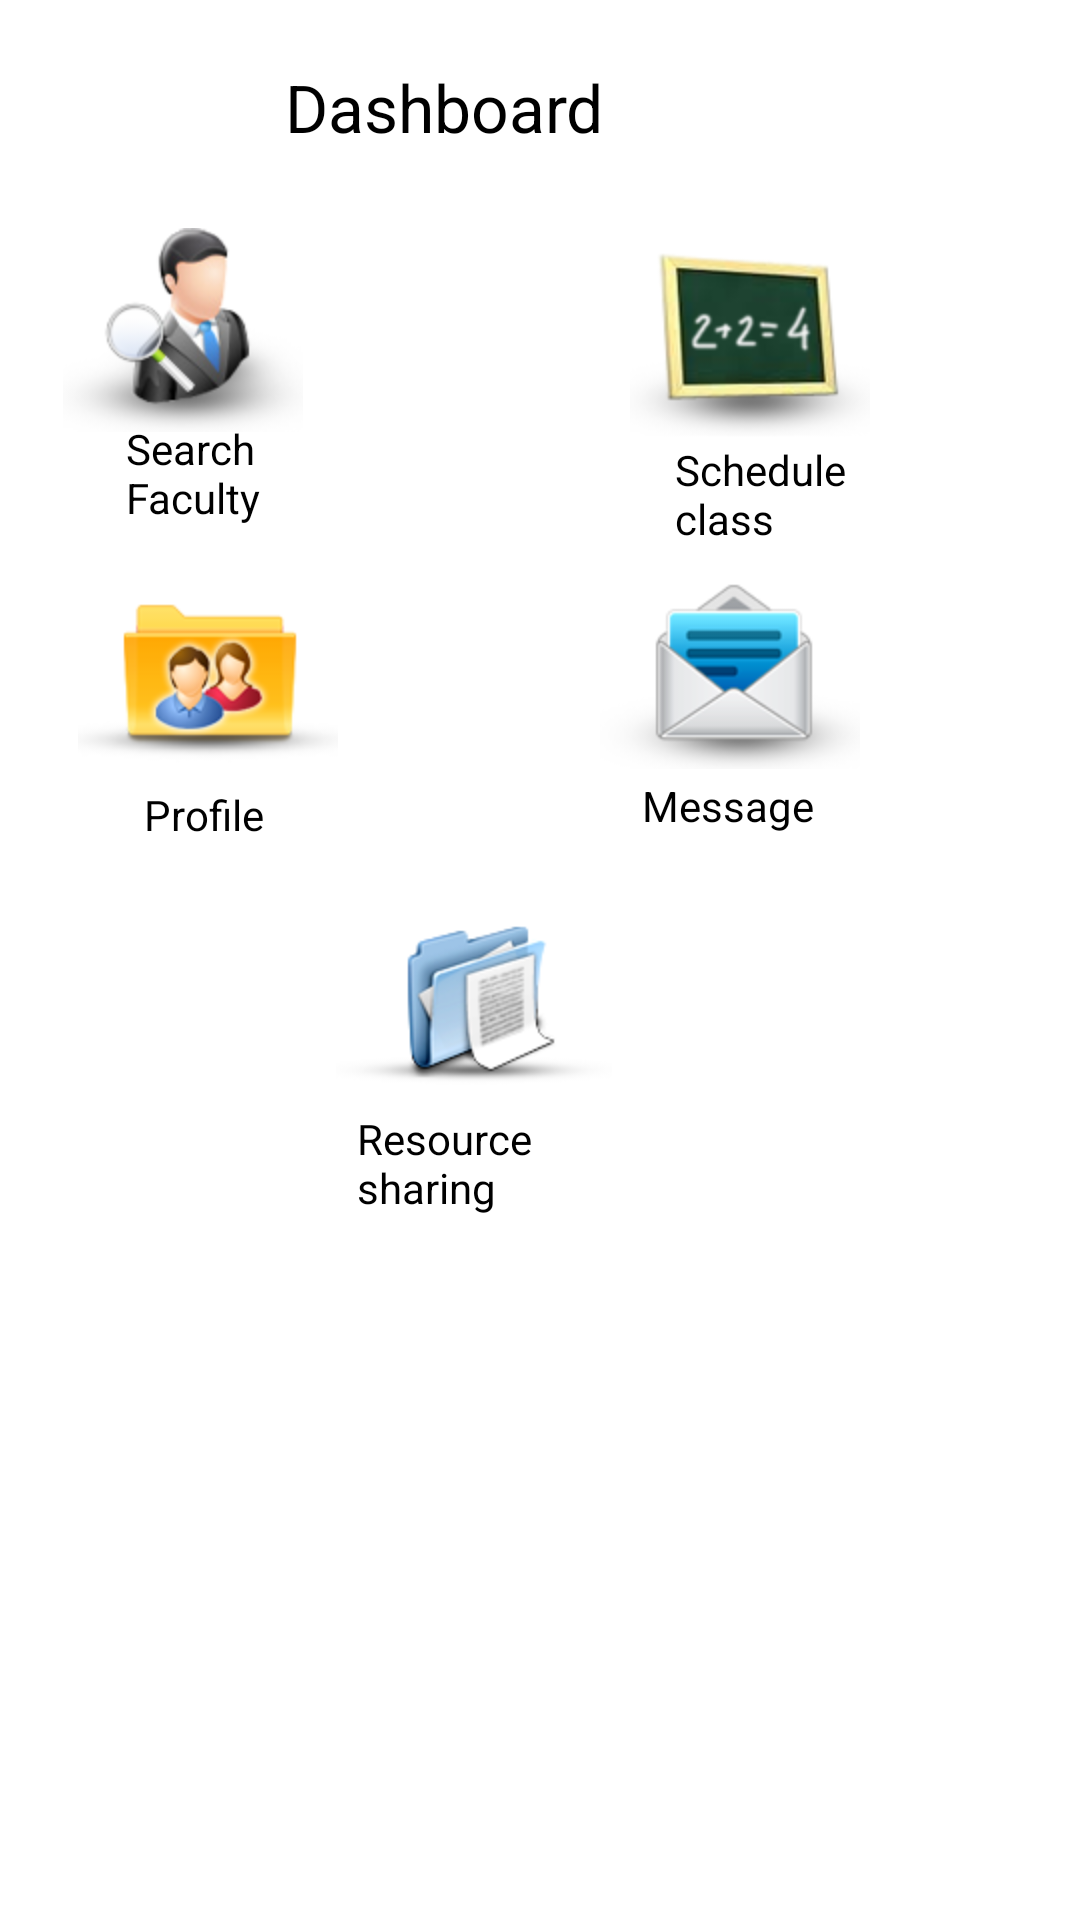

Screen size 1080 x 1920. Icon name, then its box in pixels as (x1, y1, x2, y2):
myclass: (660, 255, 839, 426)
